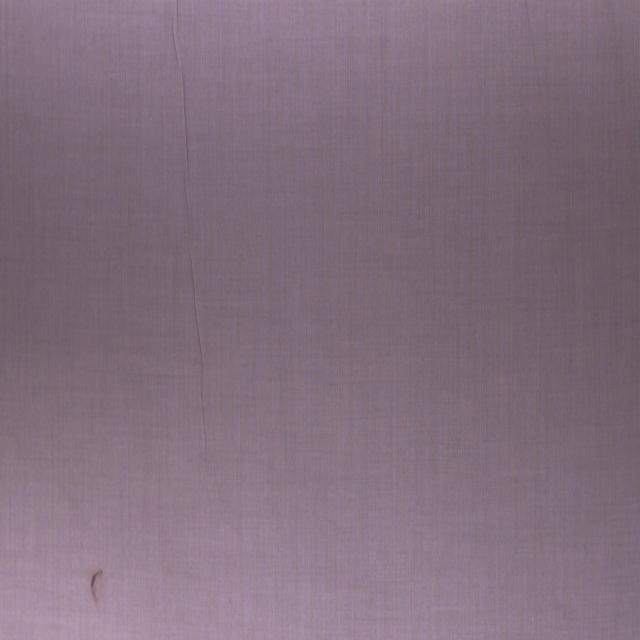dirty: (91, 566, 105, 616)
